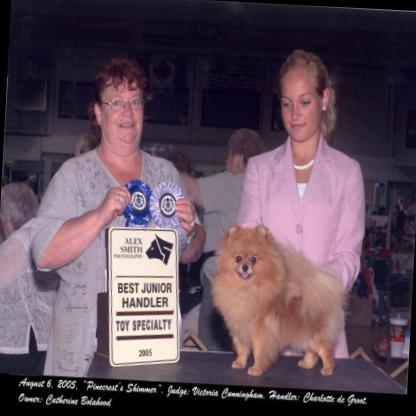Pomeranian: (206, 222, 350, 376)
